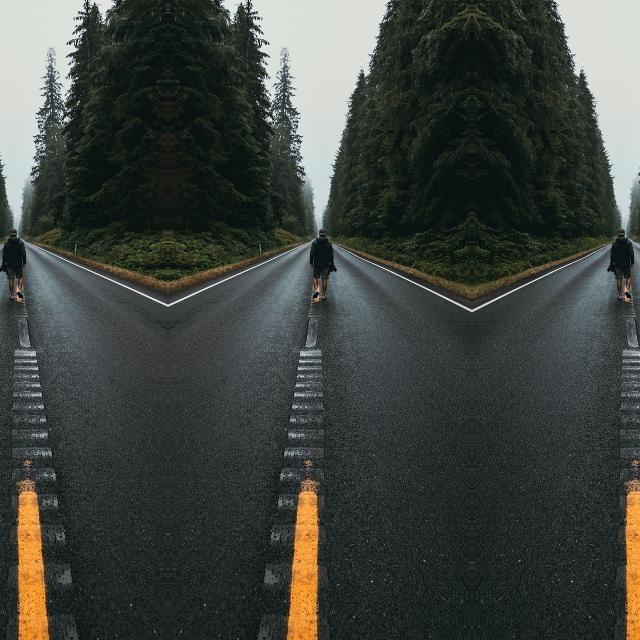person: (302, 230, 342, 310), (600, 230, 640, 309), (0, 230, 32, 309)
